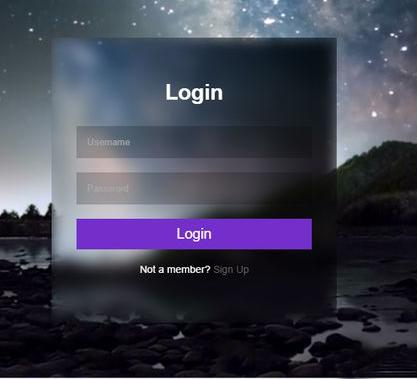button: (73, 217, 314, 252)
field: (74, 121, 314, 162), (74, 171, 317, 207)
